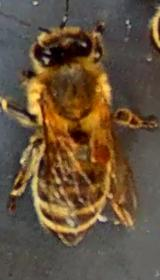varroa_mite: (82, 136, 122, 177)
